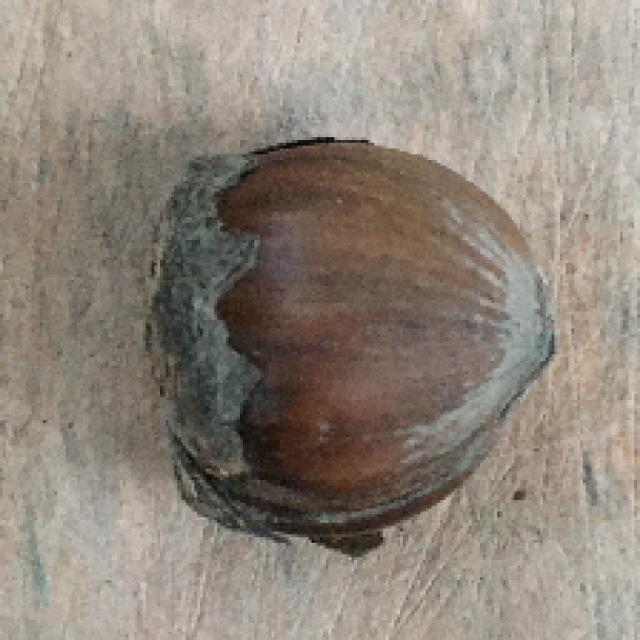damagedHazelnut: (141, 119, 563, 547)
